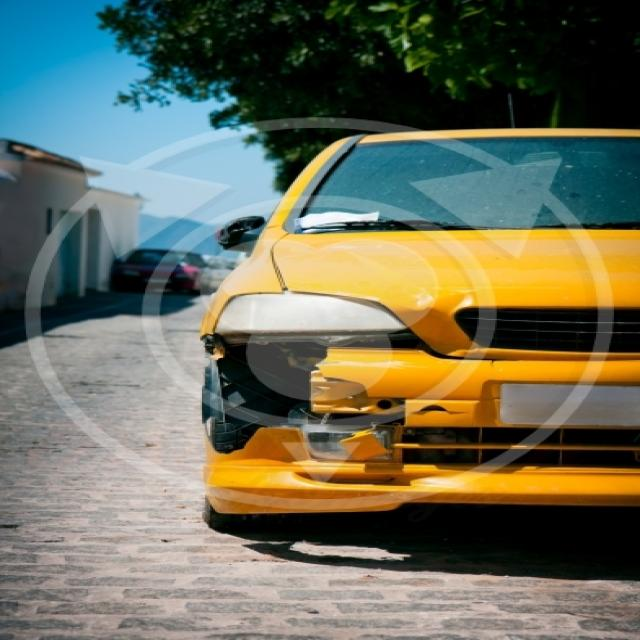crush: (197, 289, 522, 470)
